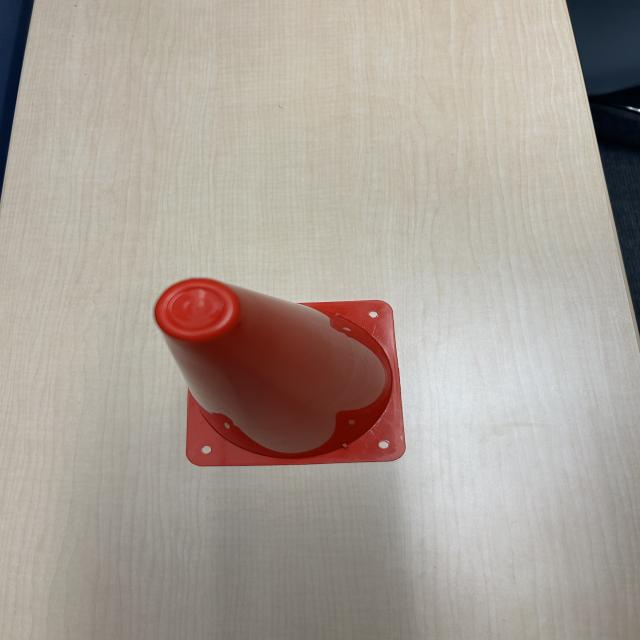orange cone: (148, 275, 410, 468)
